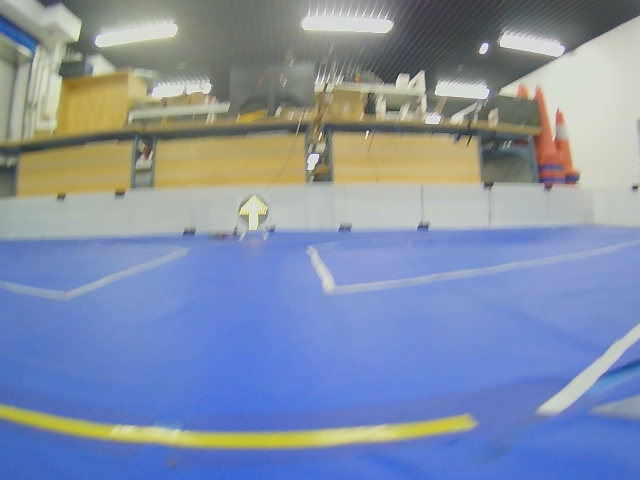straight_yellow: (238, 194, 268, 231)
